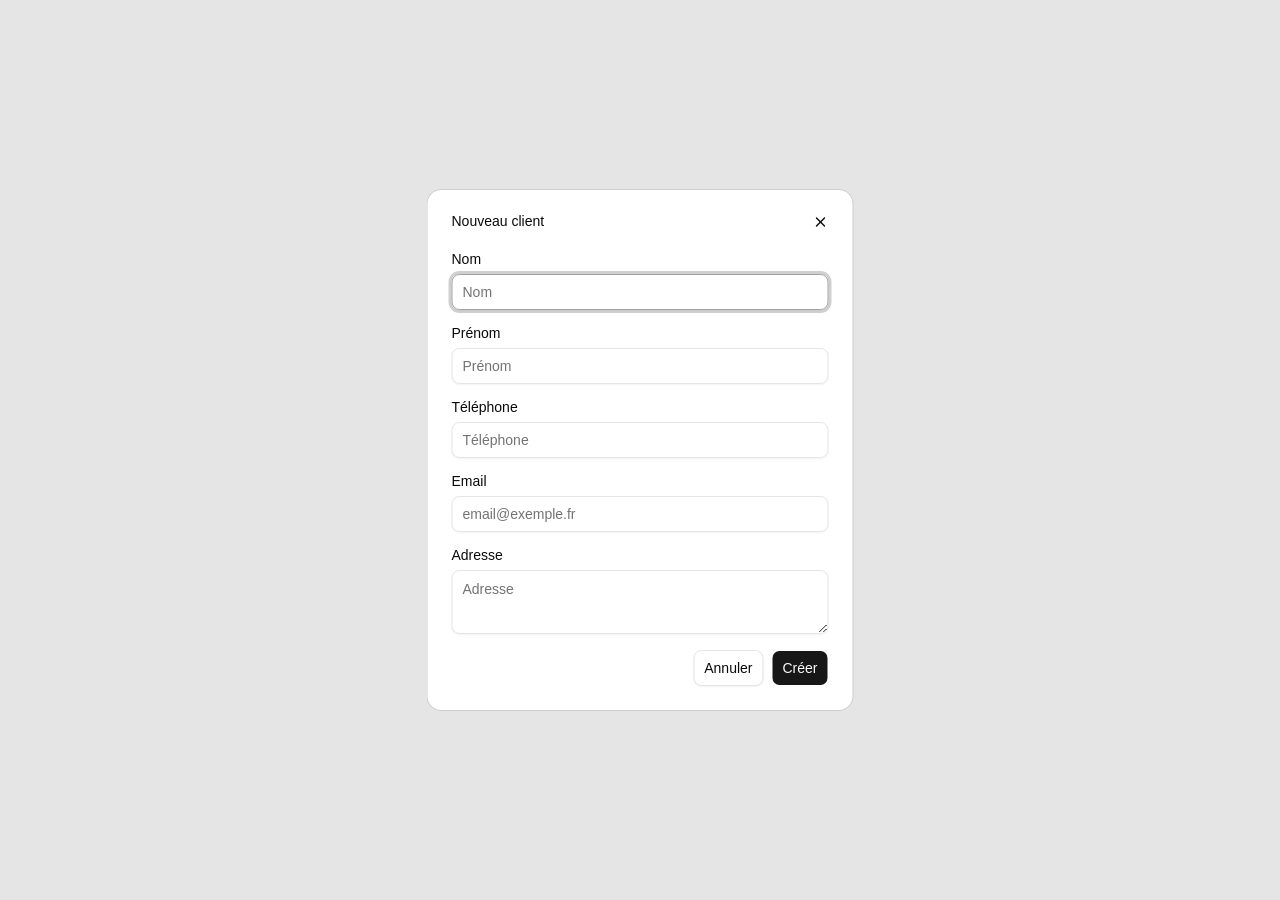
Test: CreateClientDialog › validation — Prénom obligatoire
Type "Dupont" into the field labelled "Nom" at (640, 292), box [452,274,828,310]
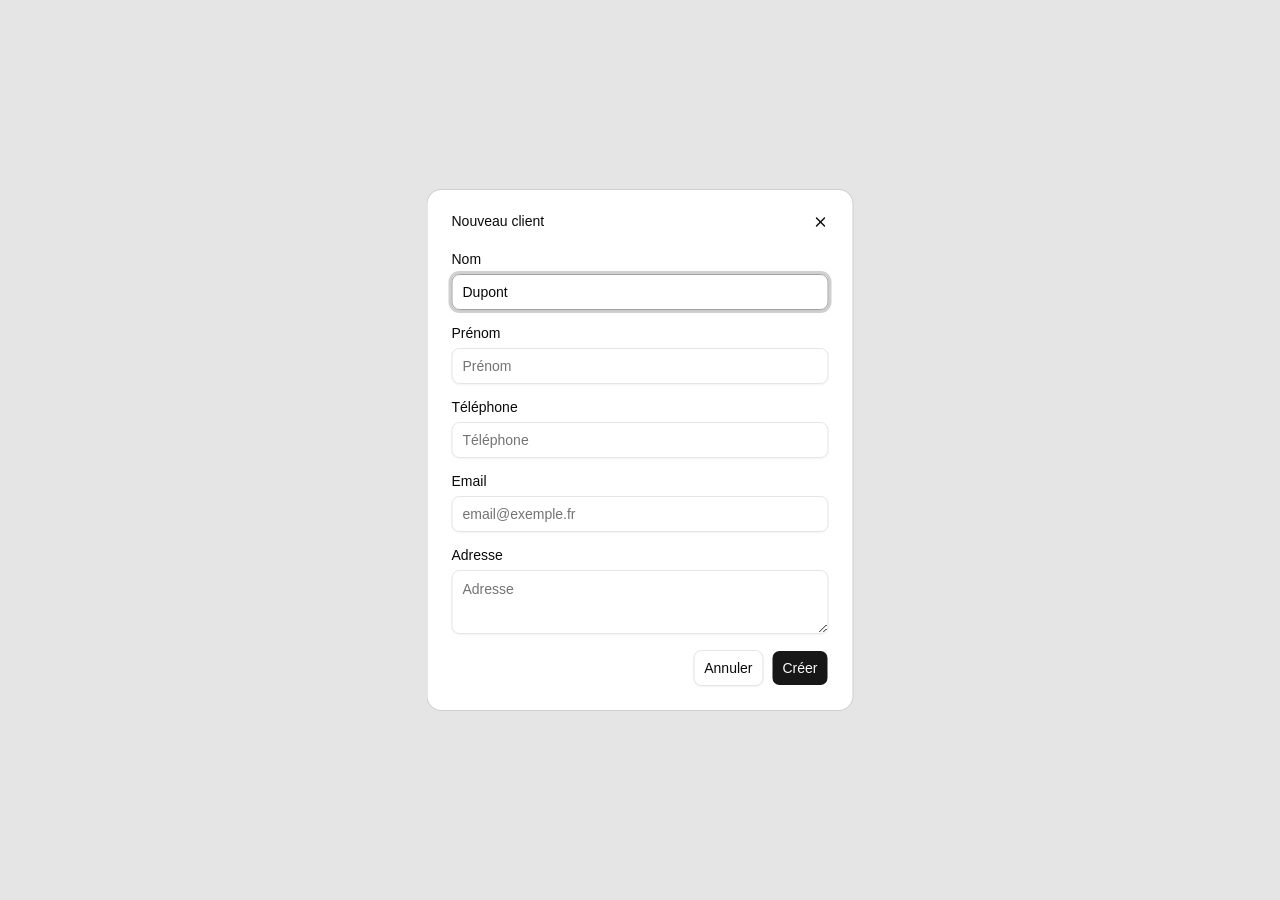
Click the button "Créer" at (800, 668), box [772,650,828,686]
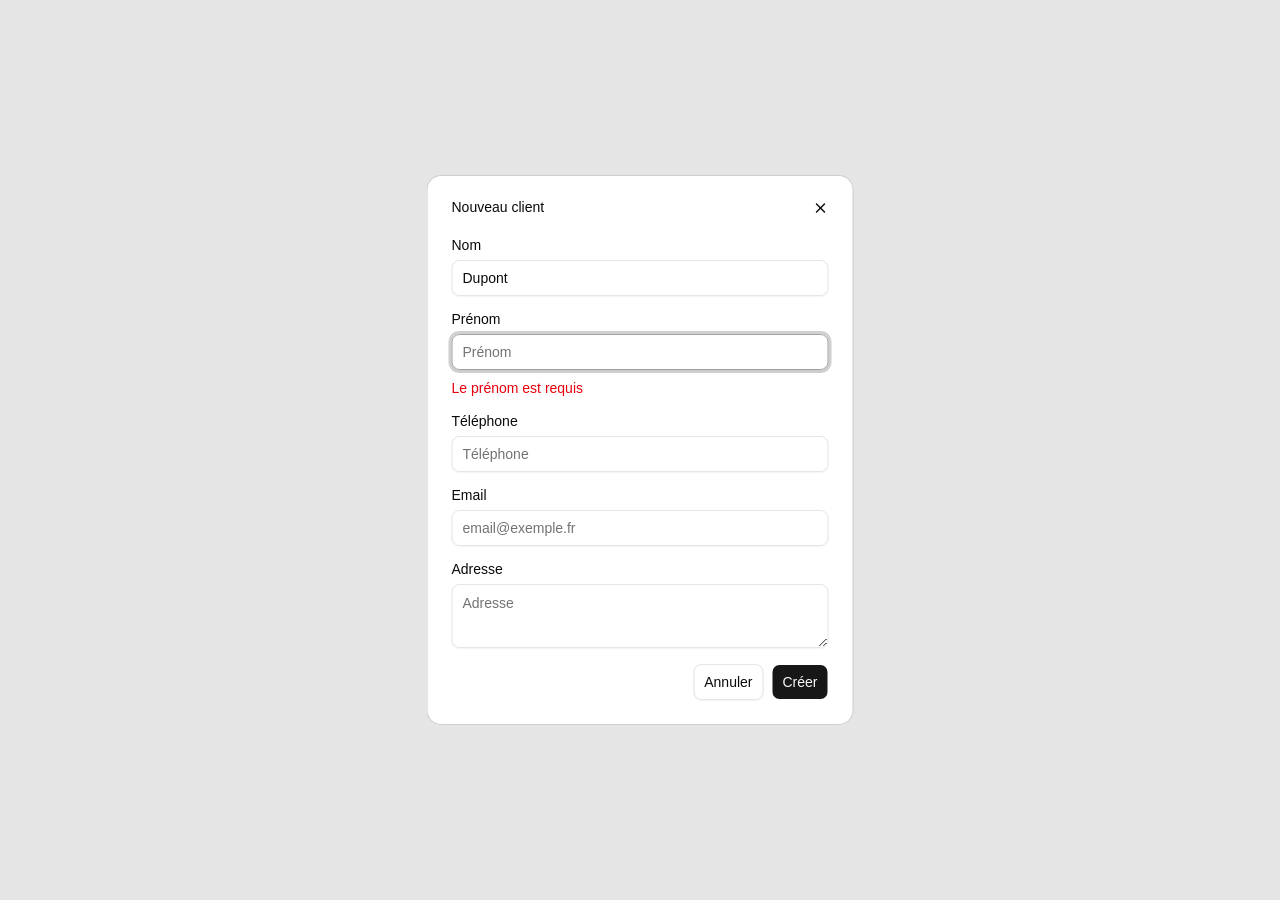
Now the text "Le prénom est requis" is shown, box [452,380,583,396]
